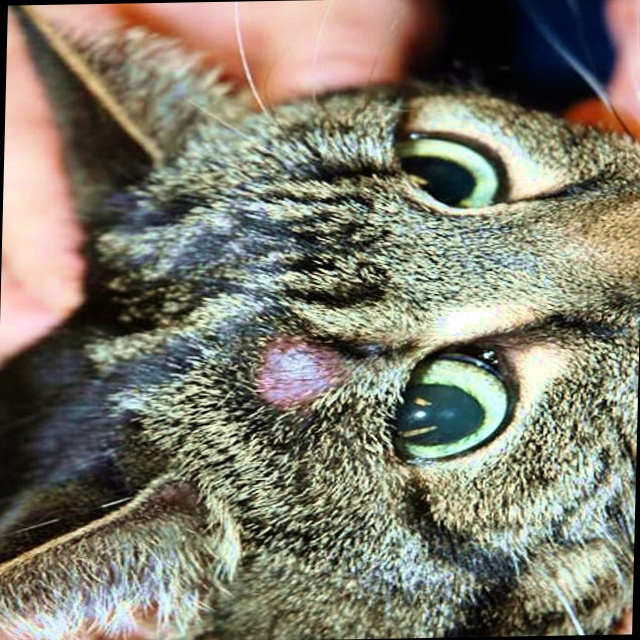lump_and_bump: (253, 338, 343, 408)
